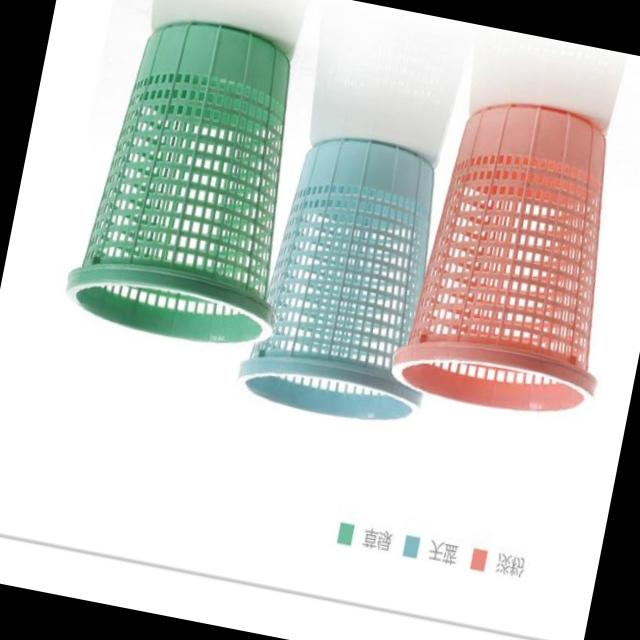dustbin: (52, 0, 333, 363), (383, 81, 640, 434), (229, 120, 472, 441)
